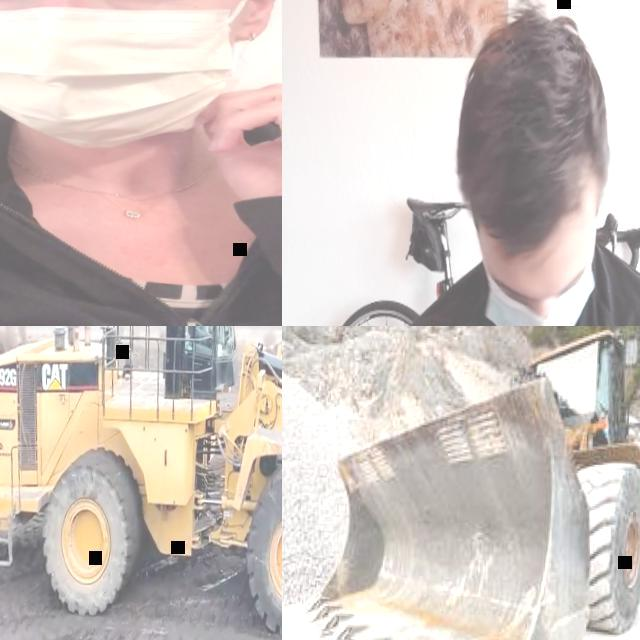machinery: (309, 326, 640, 640), (0, 326, 282, 640)
mask: (0, 0, 245, 141), (479, 259, 598, 326)
no_helmet: (446, 0, 617, 248)
no_vest: (0, 129, 282, 326), (407, 248, 640, 326), (196, 326, 210, 334)
person: (0, 0, 282, 326), (363, 0, 640, 326), (196, 326, 215, 340)
